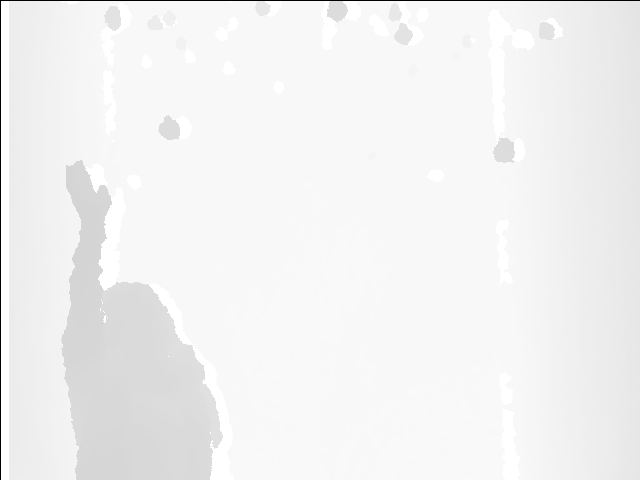hand: (66, 161, 112, 226)
